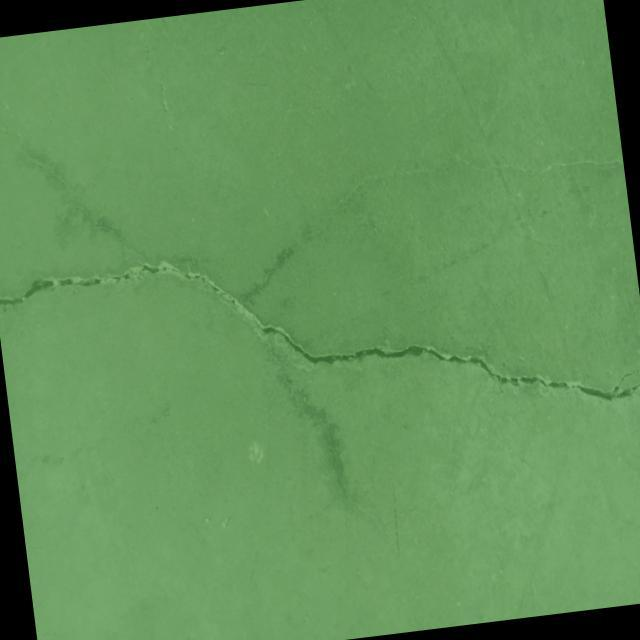crack: (0, 202, 640, 473)
